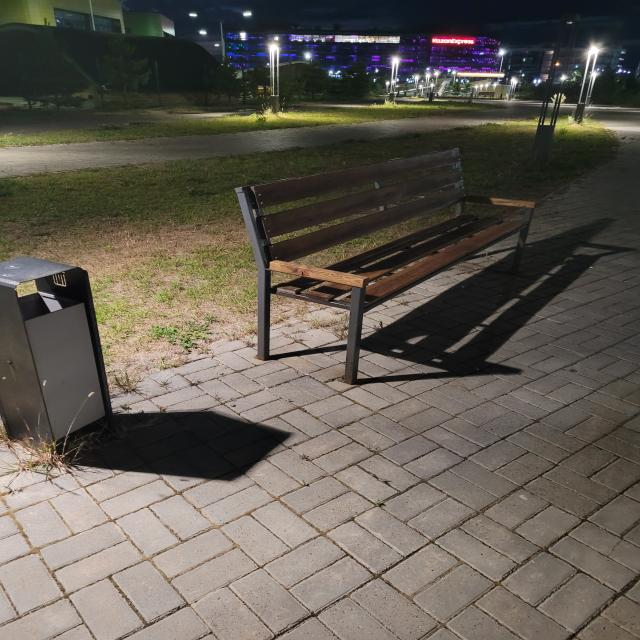Bench: (234, 148, 535, 384)
